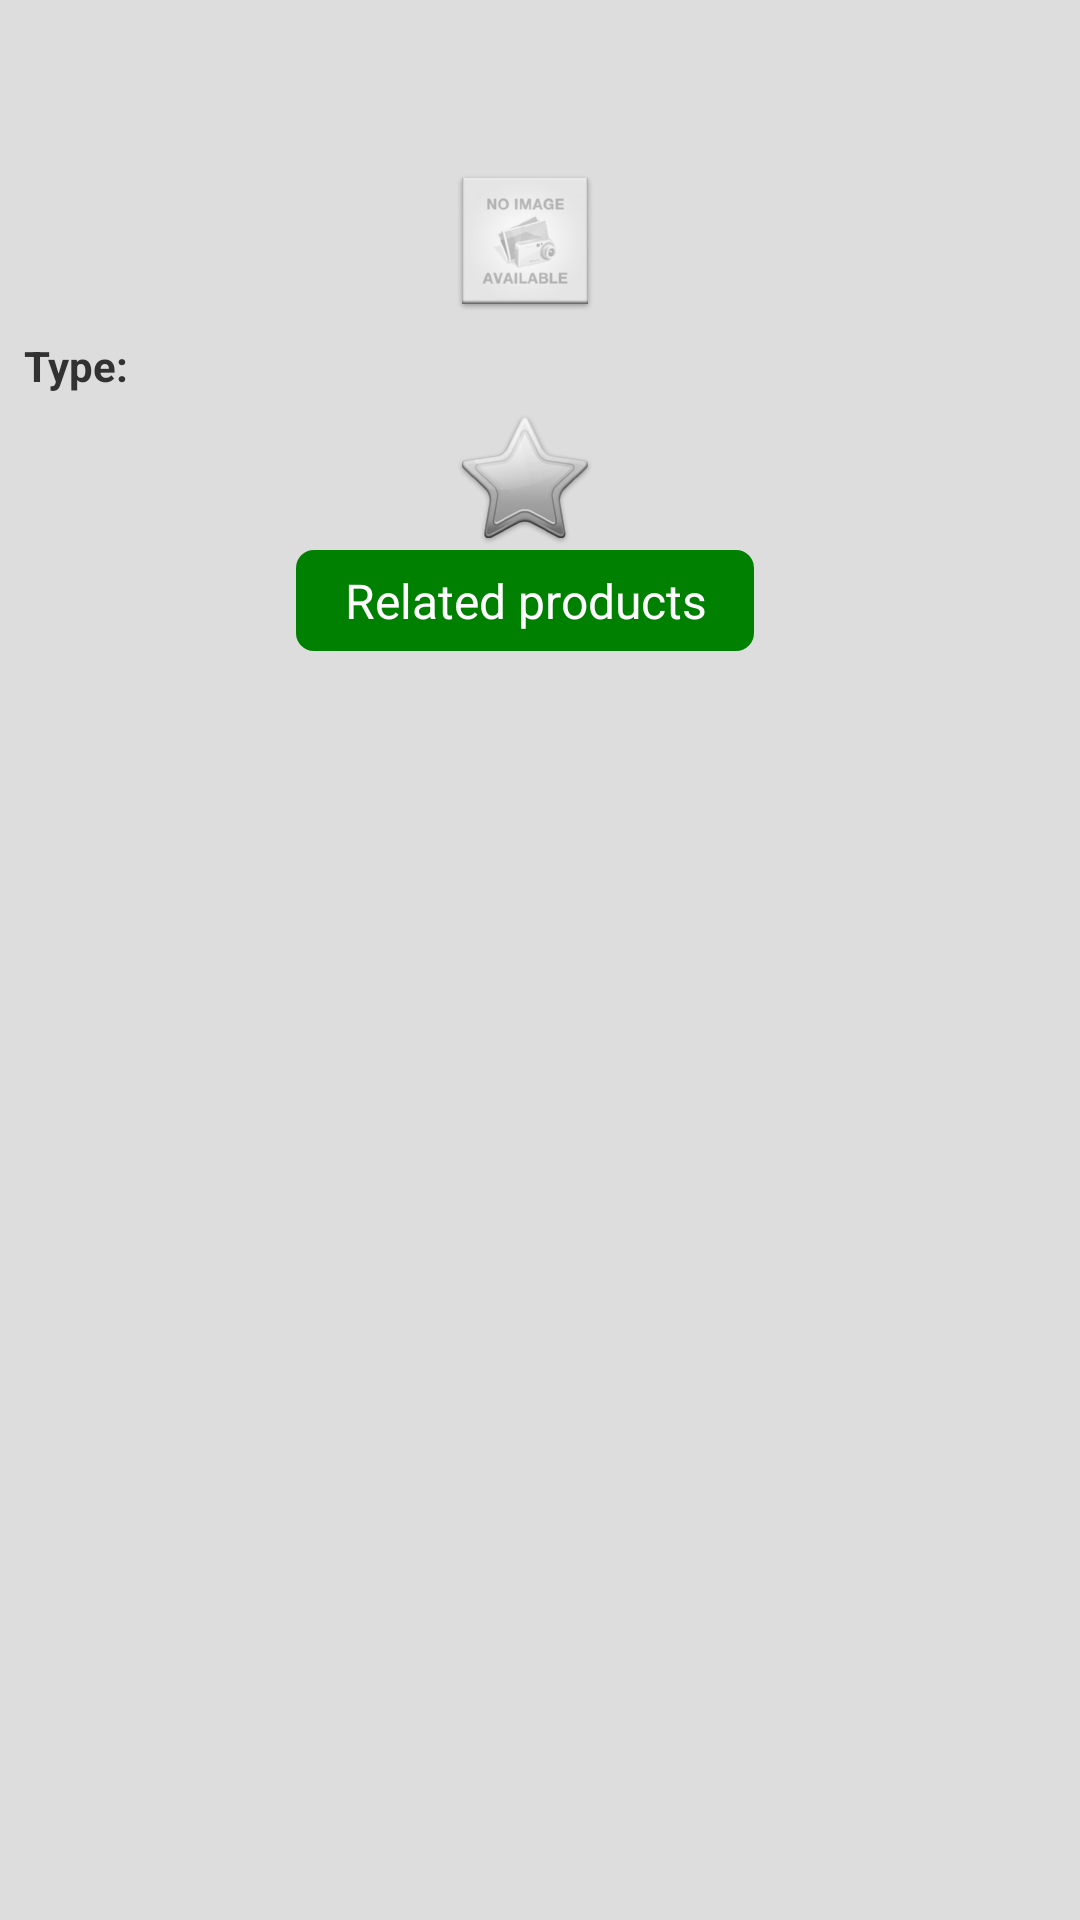

Icons on this 1080px×1920px Android screen, each with its box as (x1, y1, x2, y2):
favorite: (462, 422, 588, 540)
